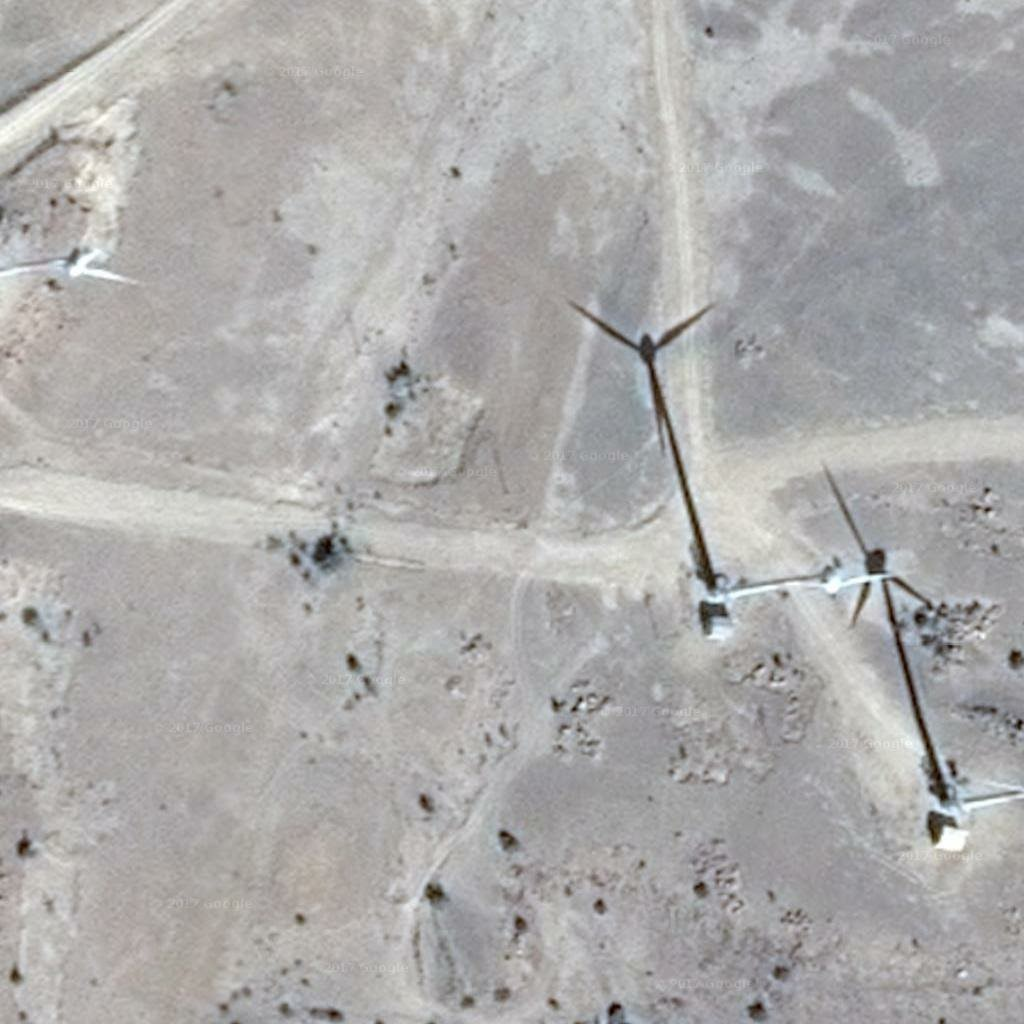Windmill: (572, 295, 733, 584)
